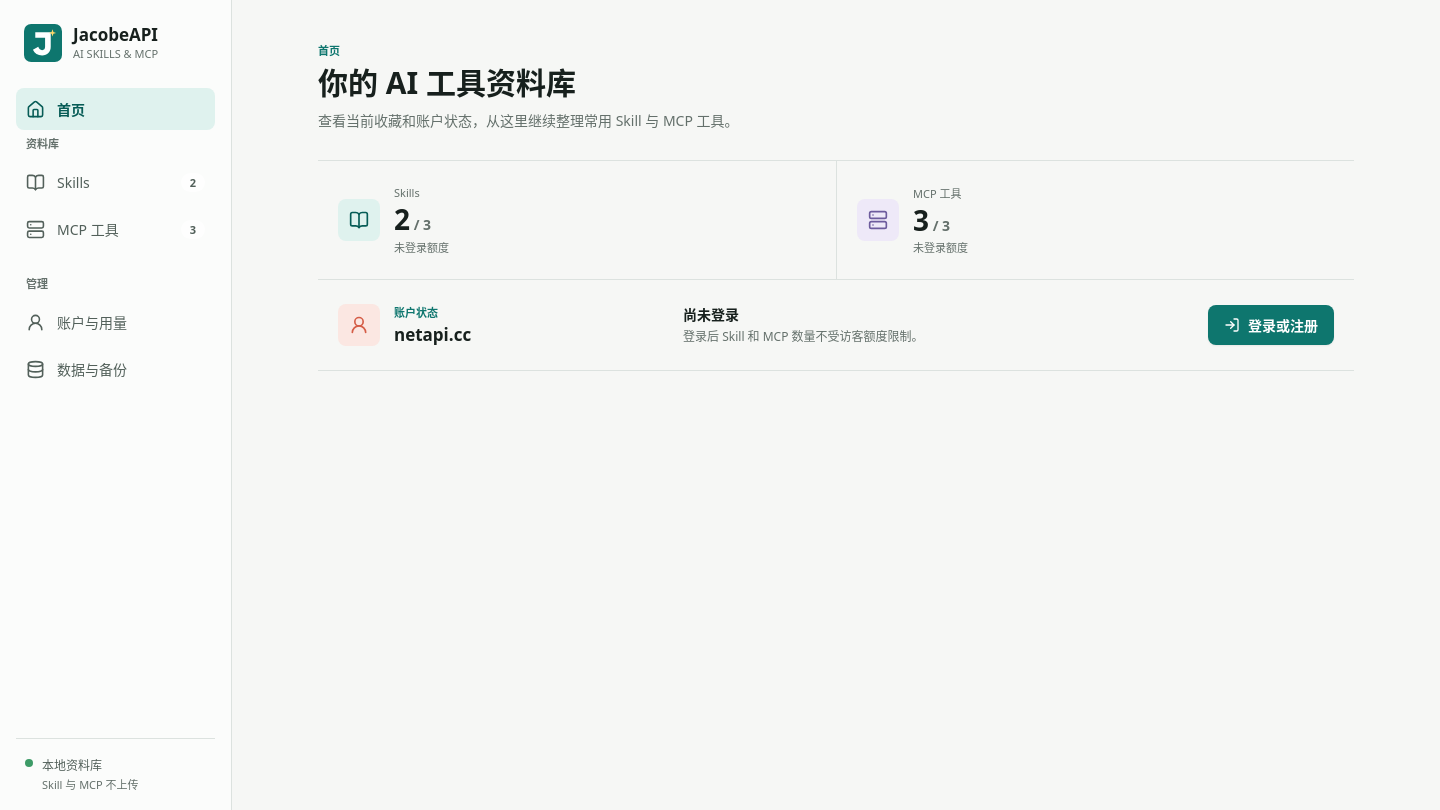
Test: ManagerApp desktop home and guest access › preserves editor input when the backend rejects a raced guest addition
Click the button "Skills 2": coordinates (116, 182) [16,161,215,203]
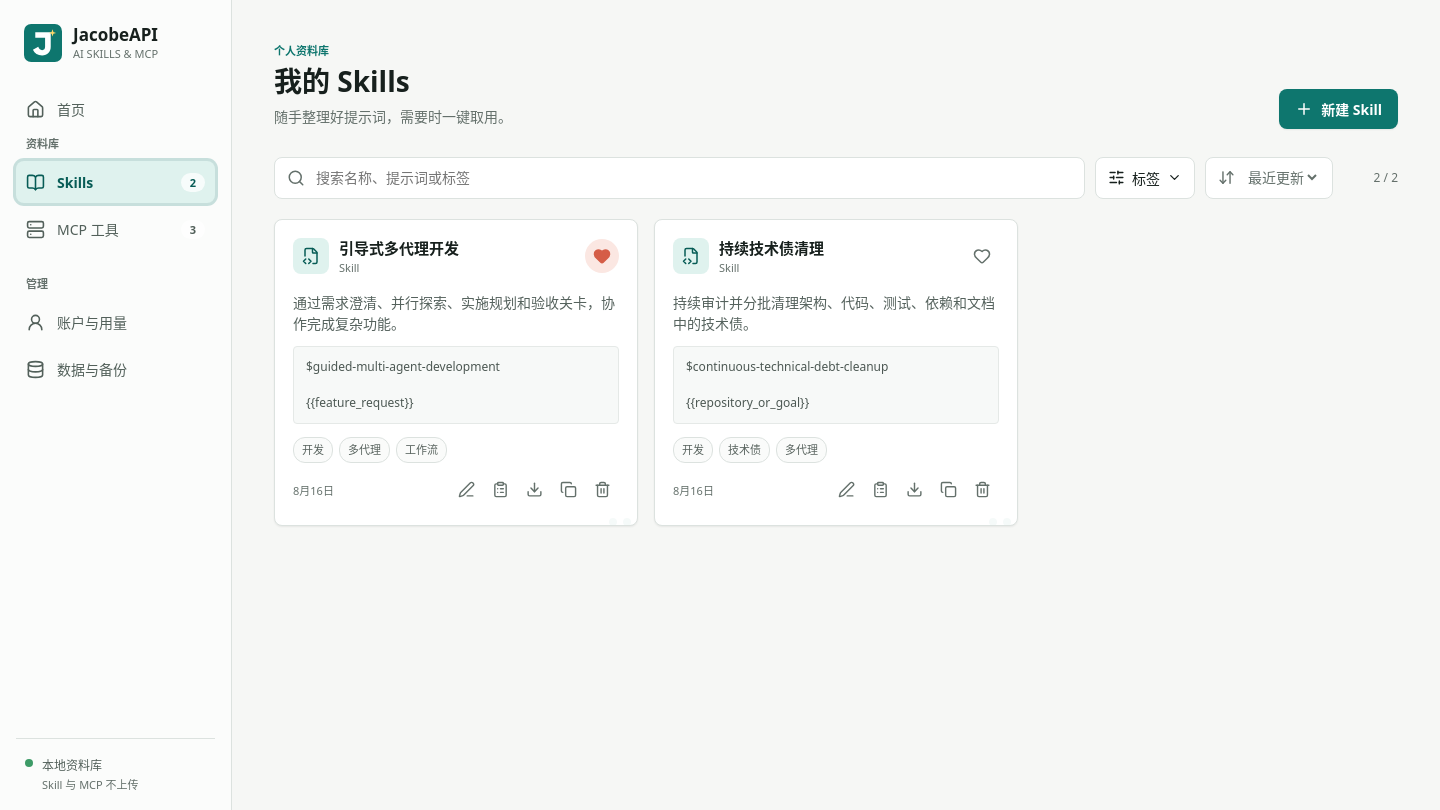
Click the button "新建 Skill": coordinates (1339, 108) [1279,88,1398,128]
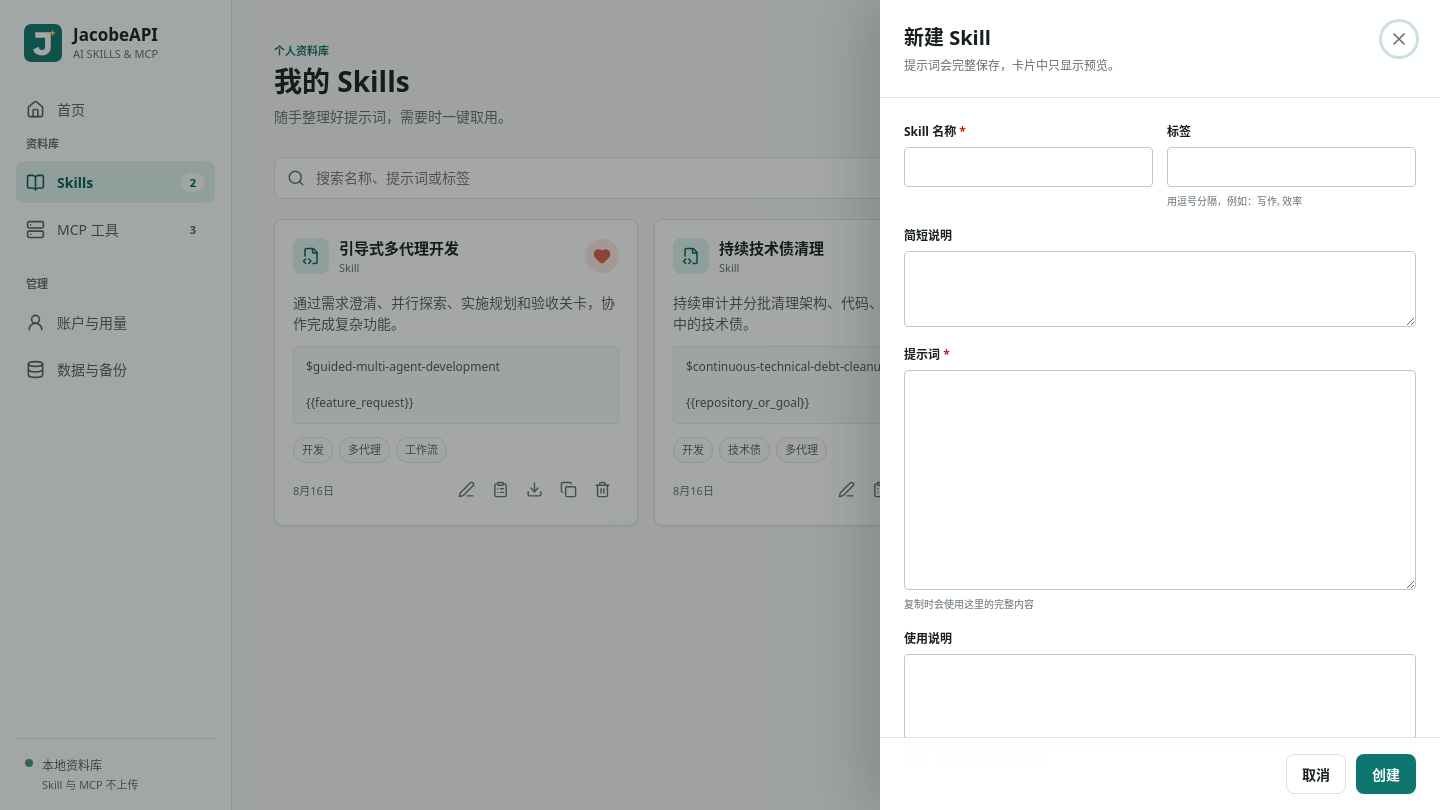
In the field labelled "Skill 名称 *": coordinates (1028, 167) [904,147,1153,187], type "尚未保存的内容"
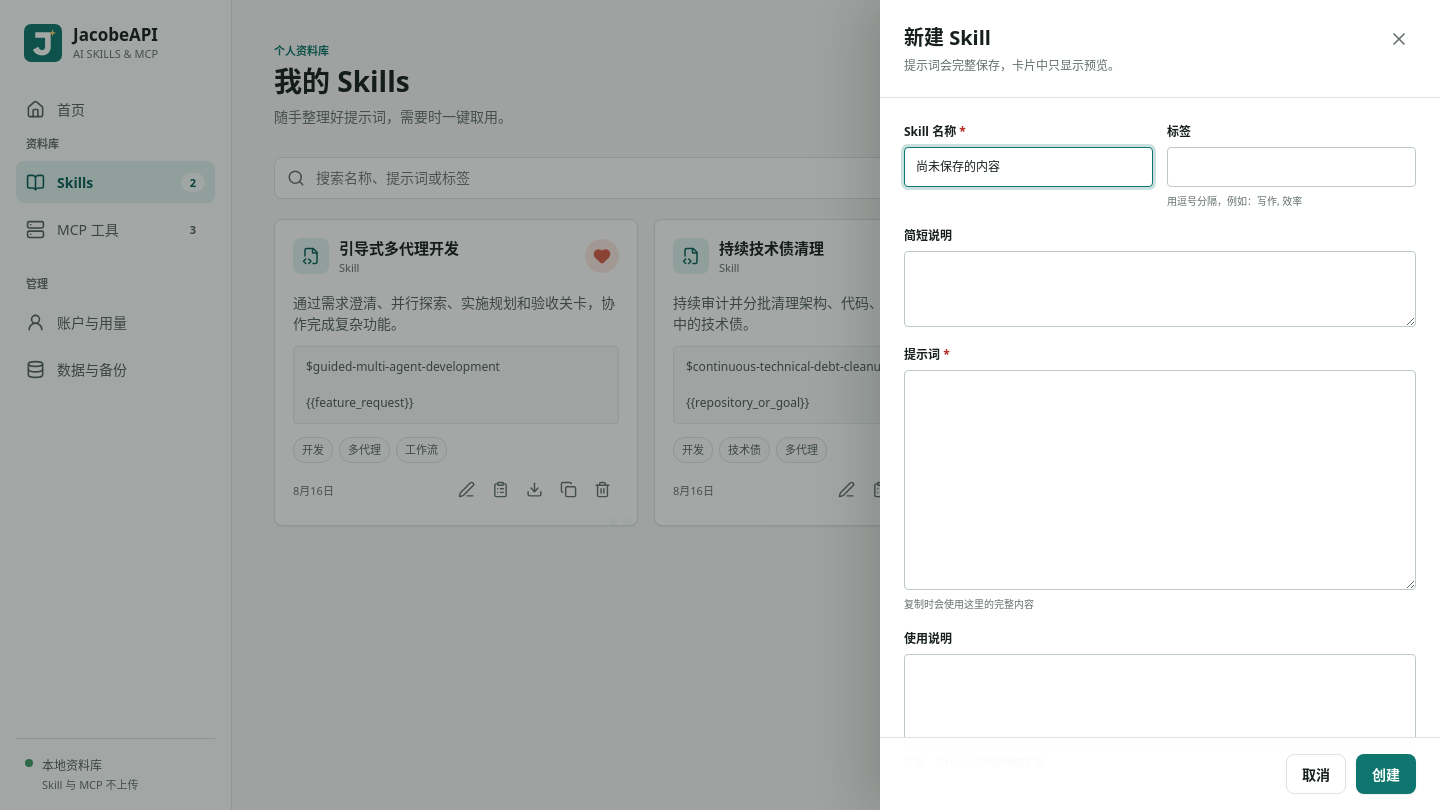
In the text box labelled "提示词 * 复制时会使用这里的完整内容": coordinates (1160, 480) [904,370,1416,590], type "请保留这些输入"
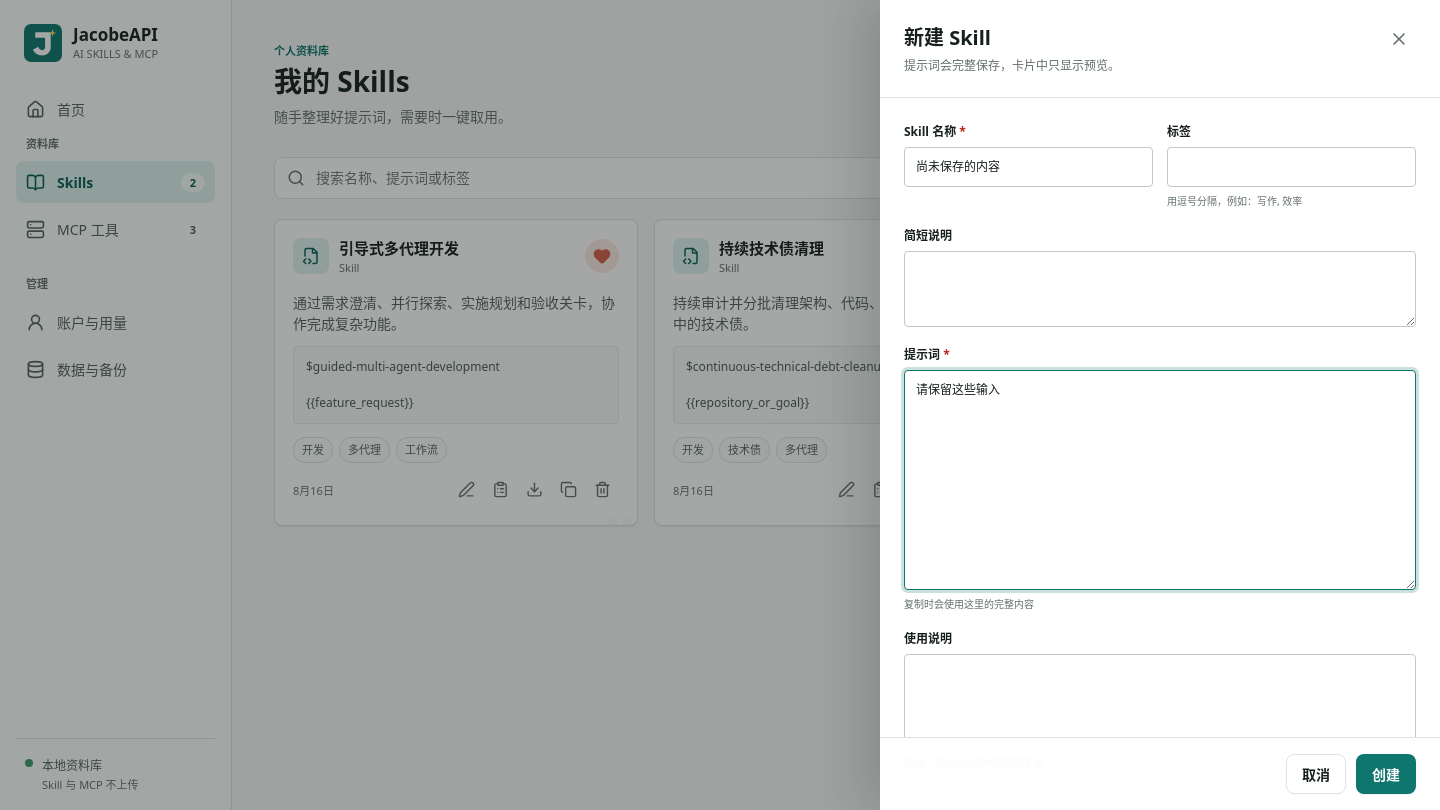
Click the button "创建": coordinates (1386, 774) [1356,754,1416,794]
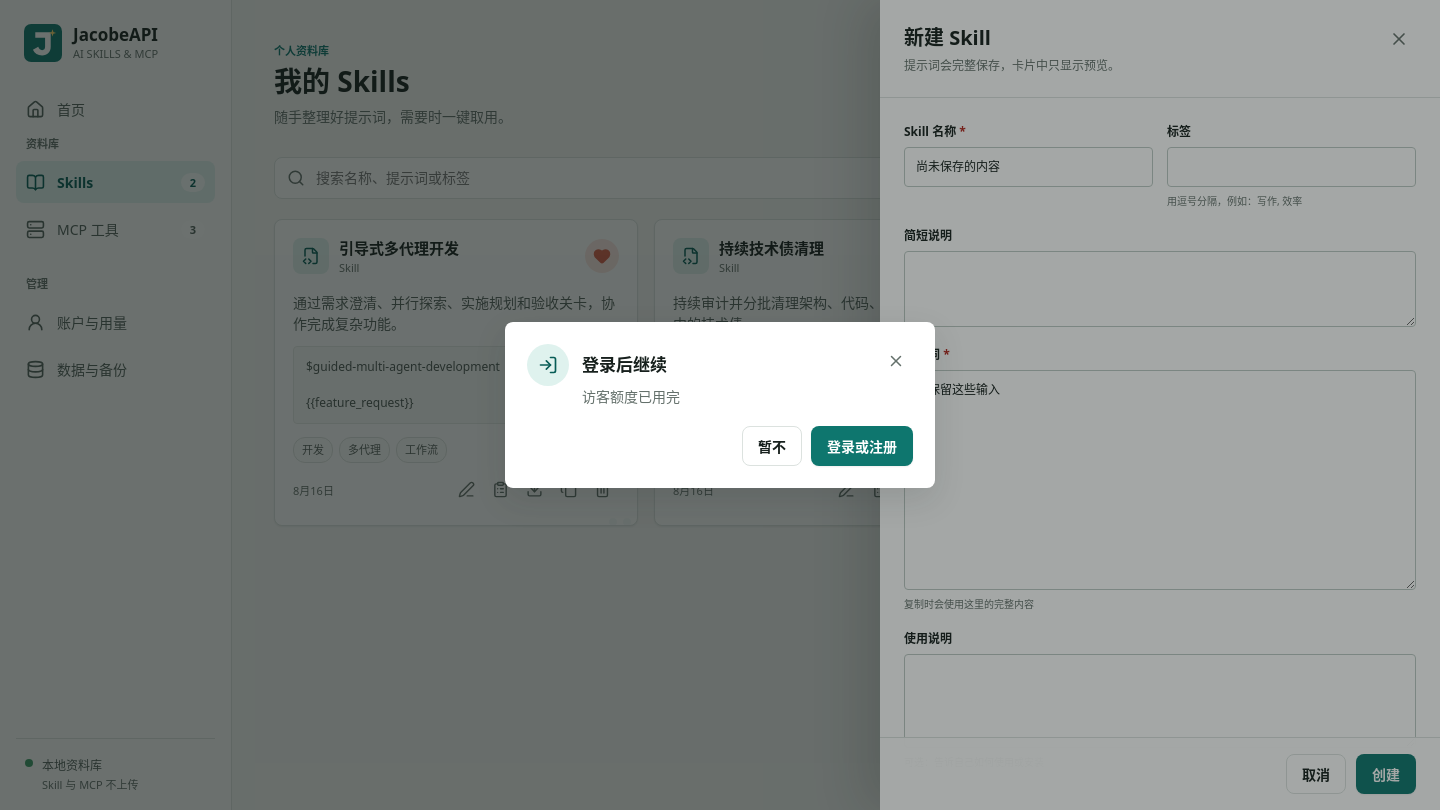
Expected: the dialog "新建 Skill" is shown, [880,0,1439,809]
Expected: the dialog "登录后继续" shows "访客额度已用完", [582,387,680,406]
